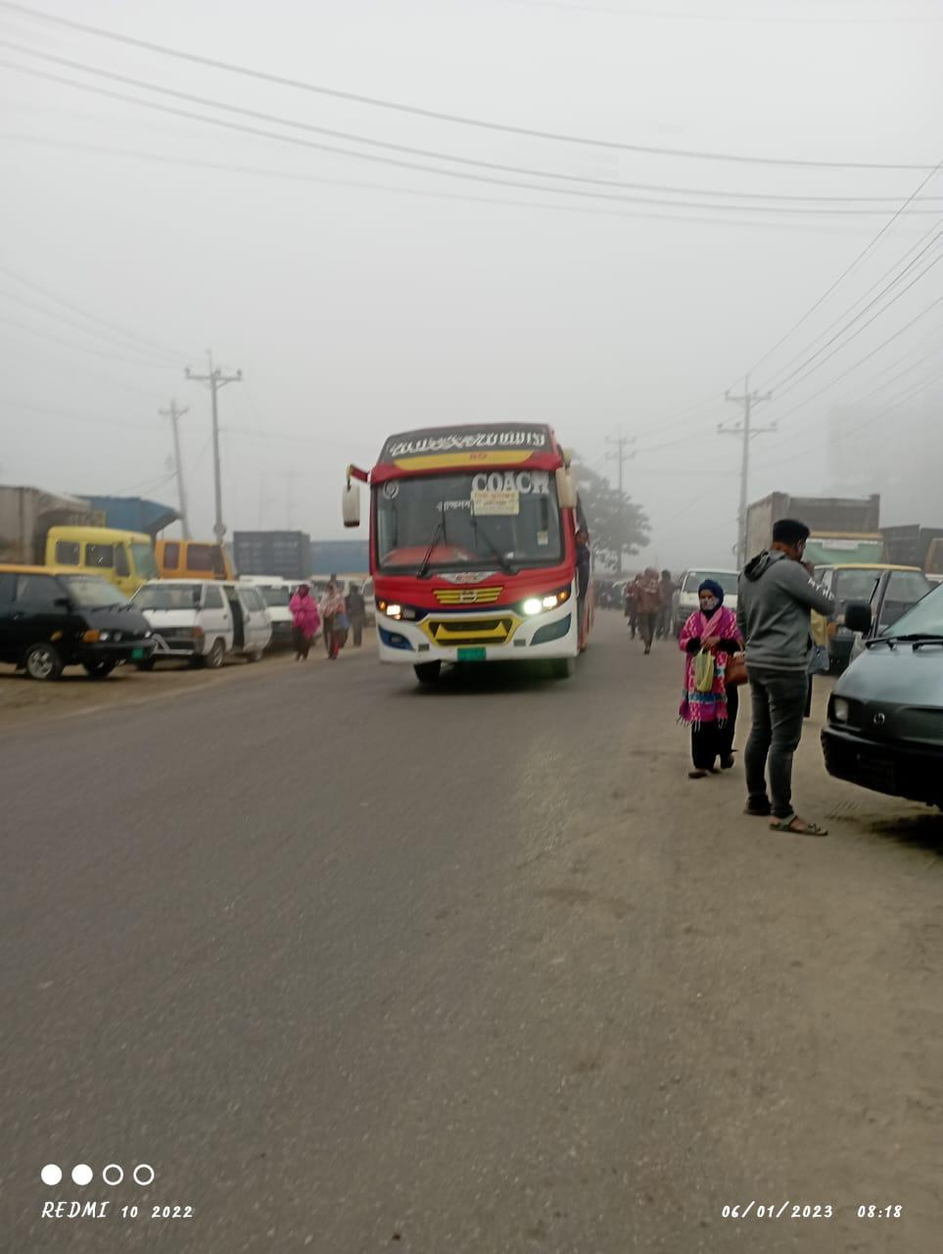Bus: (330, 416, 609, 693)
Car: (1, 563, 168, 700), (127, 571, 276, 665), (667, 559, 753, 653)
